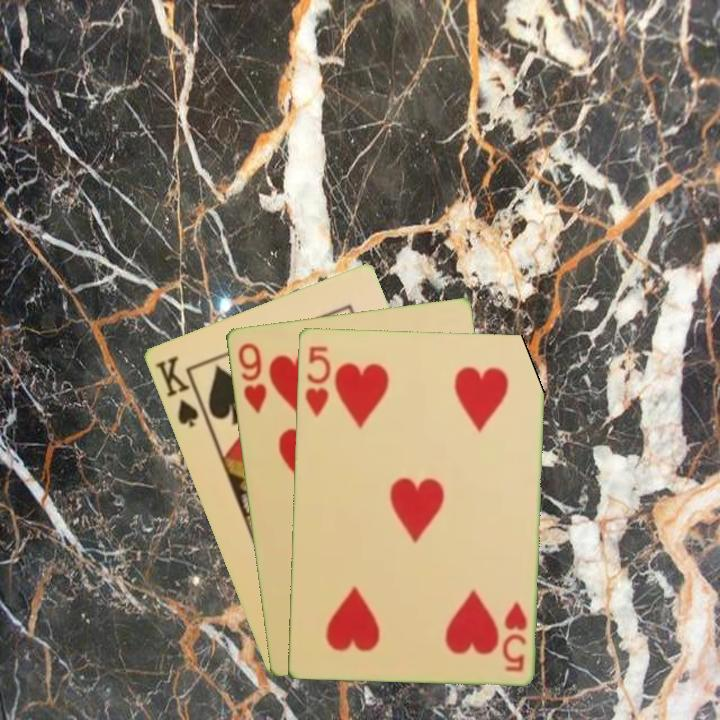5h: (498, 598, 530, 674), (302, 342, 333, 418)
9h: (234, 339, 269, 416)
Ks: (151, 352, 209, 430)
